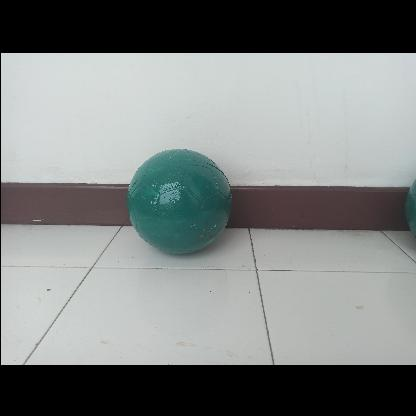green_ball: (125, 146, 235, 256)
